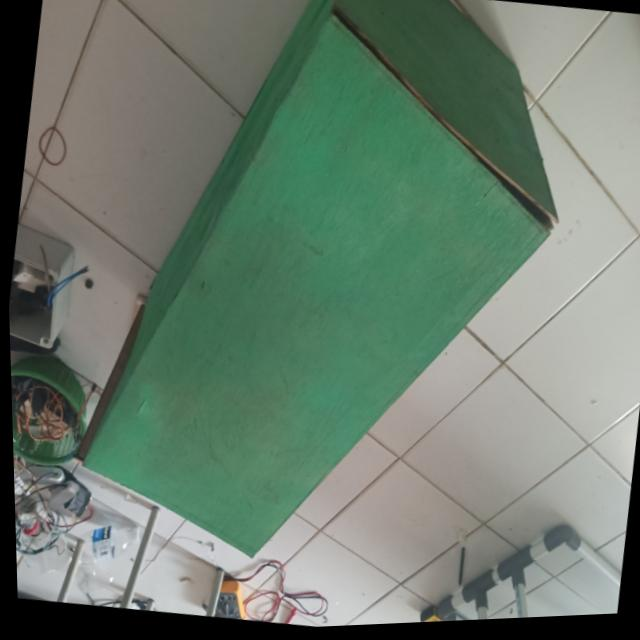green_box: (42, 0, 591, 600)
